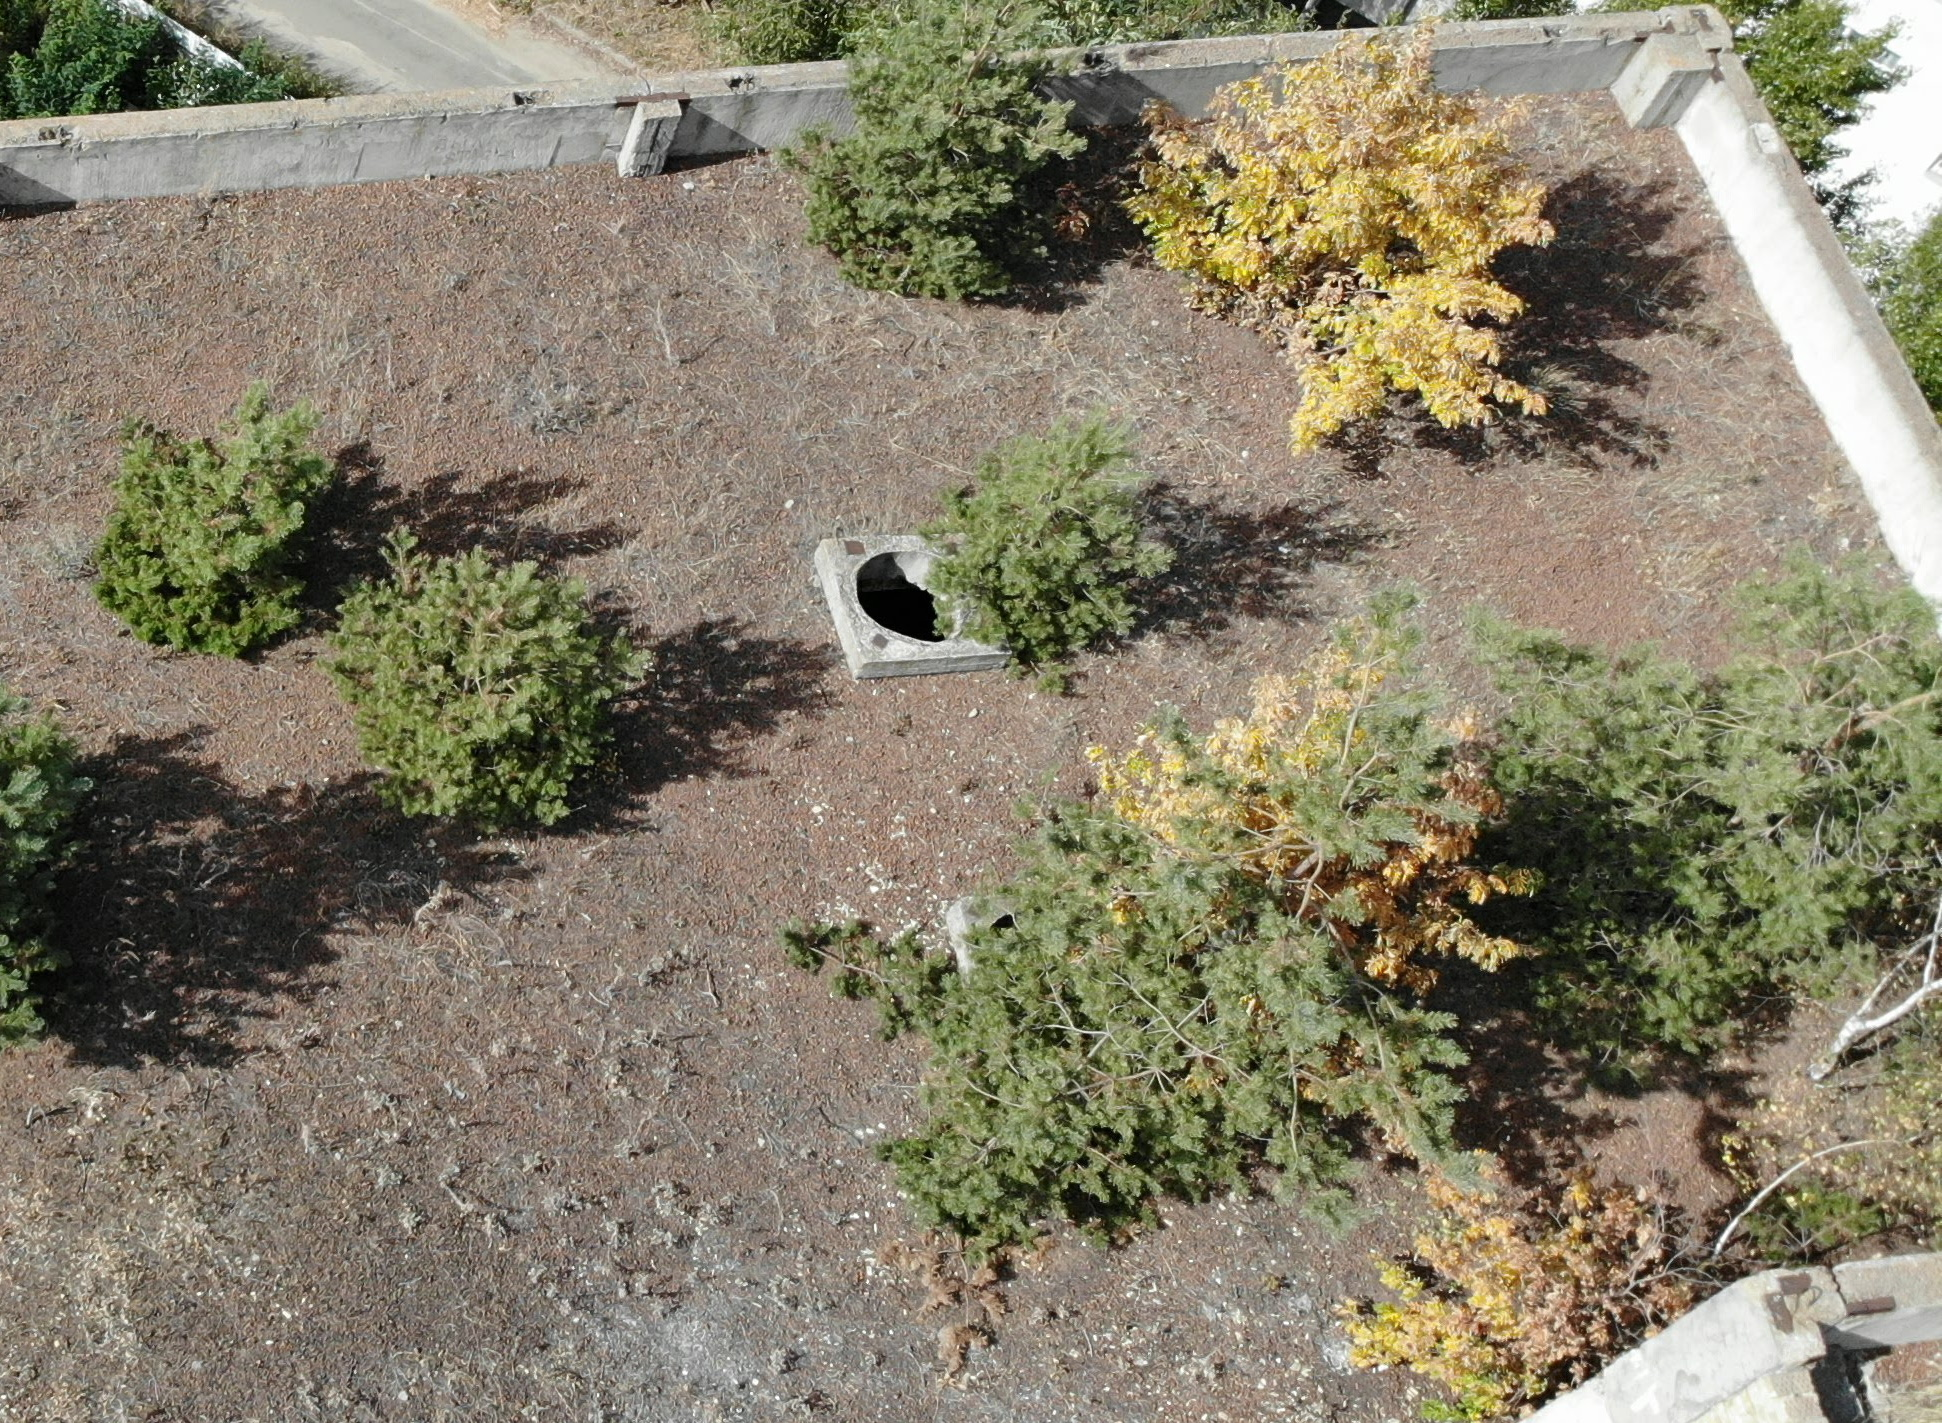tree: (1126, 588, 1535, 1232), (844, 841, 1309, 1317), (1594, 558, 1940, 1103), (1166, 32, 1576, 460), (326, 517, 644, 873), (1340, 1146, 1708, 1423), (66, 354, 369, 690), (826, 20, 1126, 335), (960, 416, 1191, 701), (1735, 1161, 1882, 1295)
